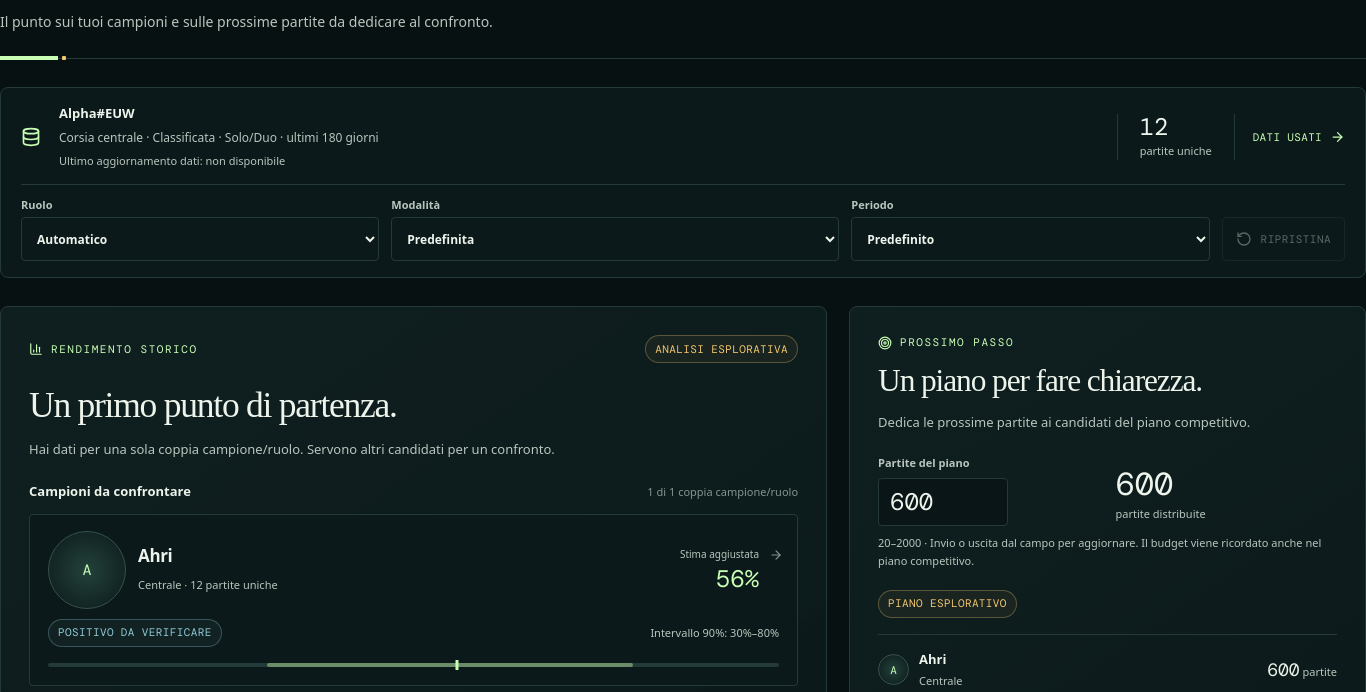
Test case: Filtri condivisi del Riepilogo › conferma la bozza -5 all’uscita dal campo con budget 20
Replace the text in the number field labelled "Partite del piano" with "-5". click: (943, 502)
box: [878, 478, 1008, 526]
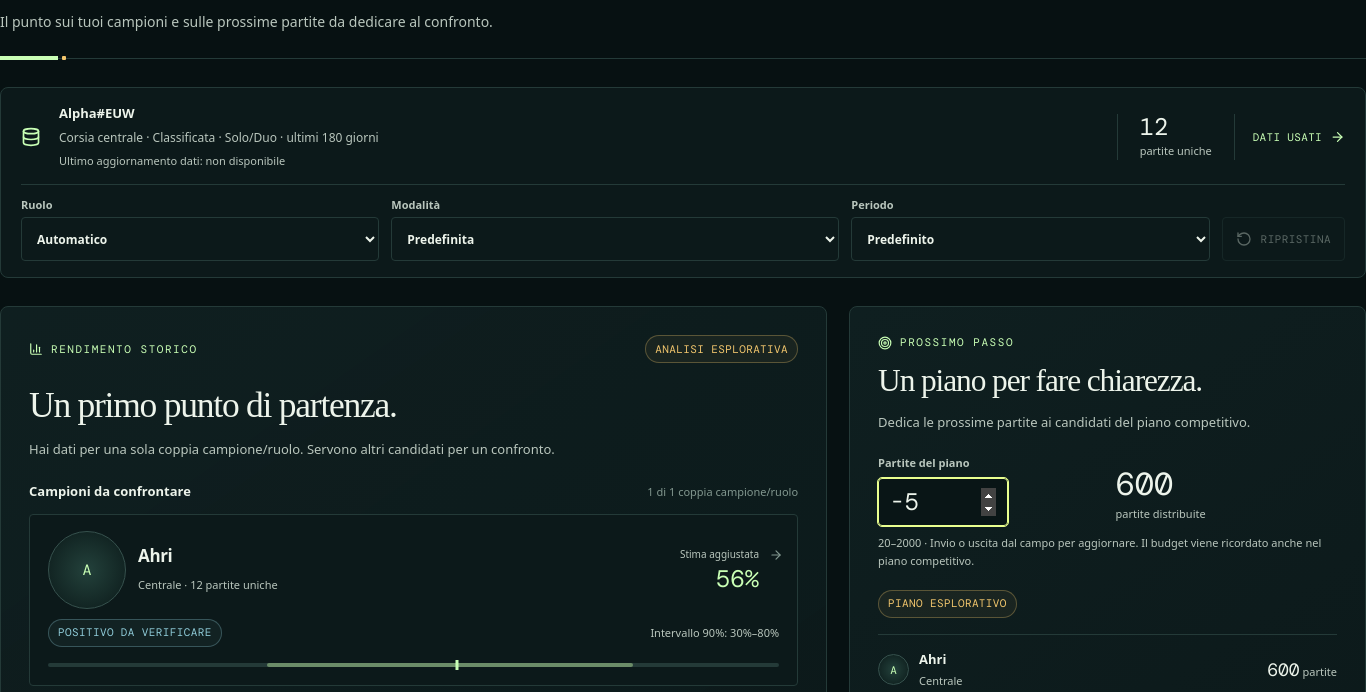
Press Tab
(page scrolled)
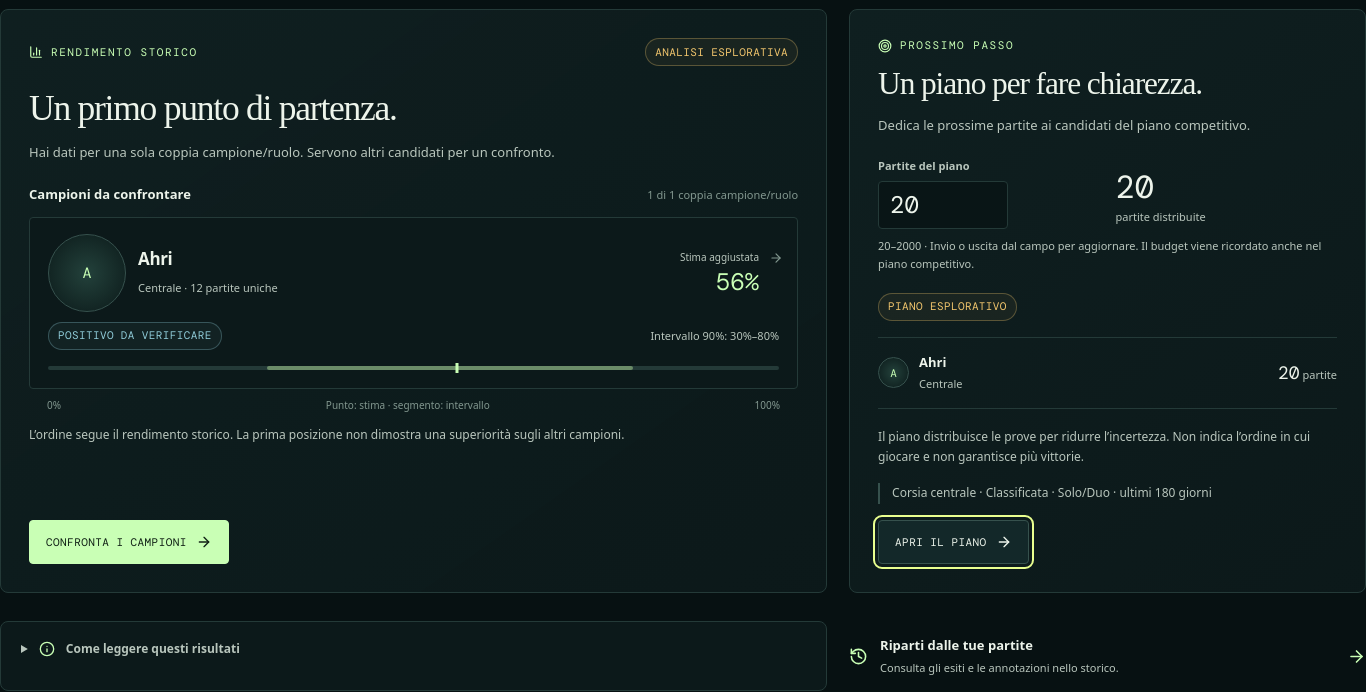
Expected: the number field labelled "Partite del piano" holds "20", [878, 181, 1008, 229]
